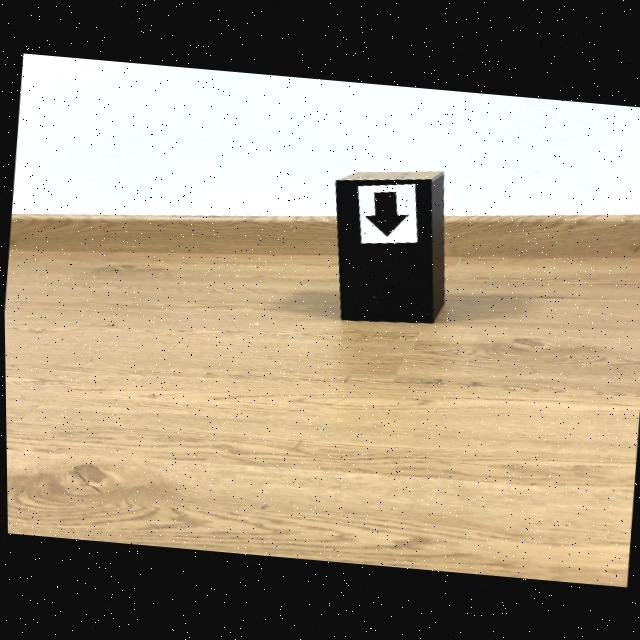DOWN: (365, 191, 406, 236)
